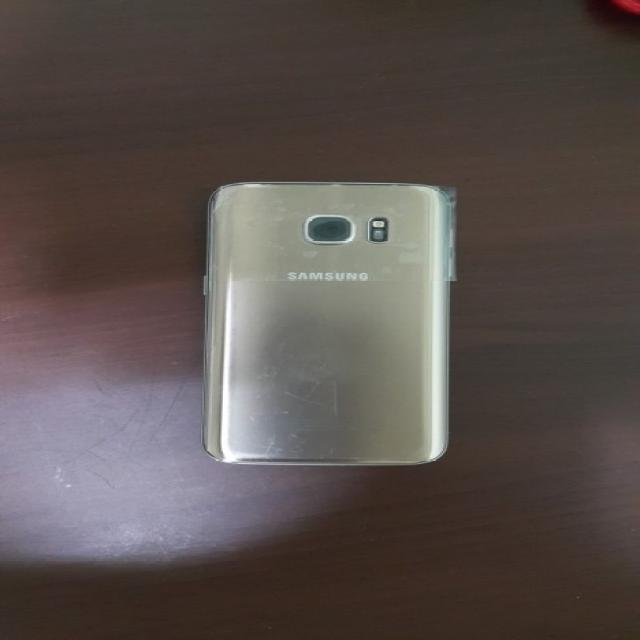phone: (208, 180, 448, 464)
